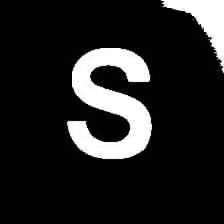LTR_S: (62, 42, 156, 163)
